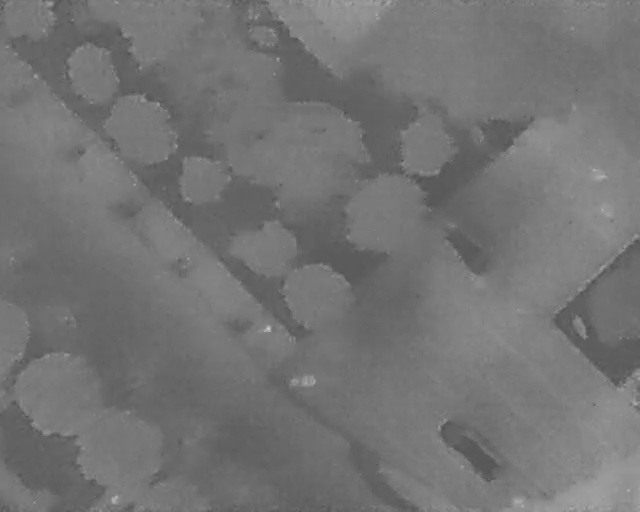Car: (430, 411, 508, 487), (438, 218, 494, 278)
